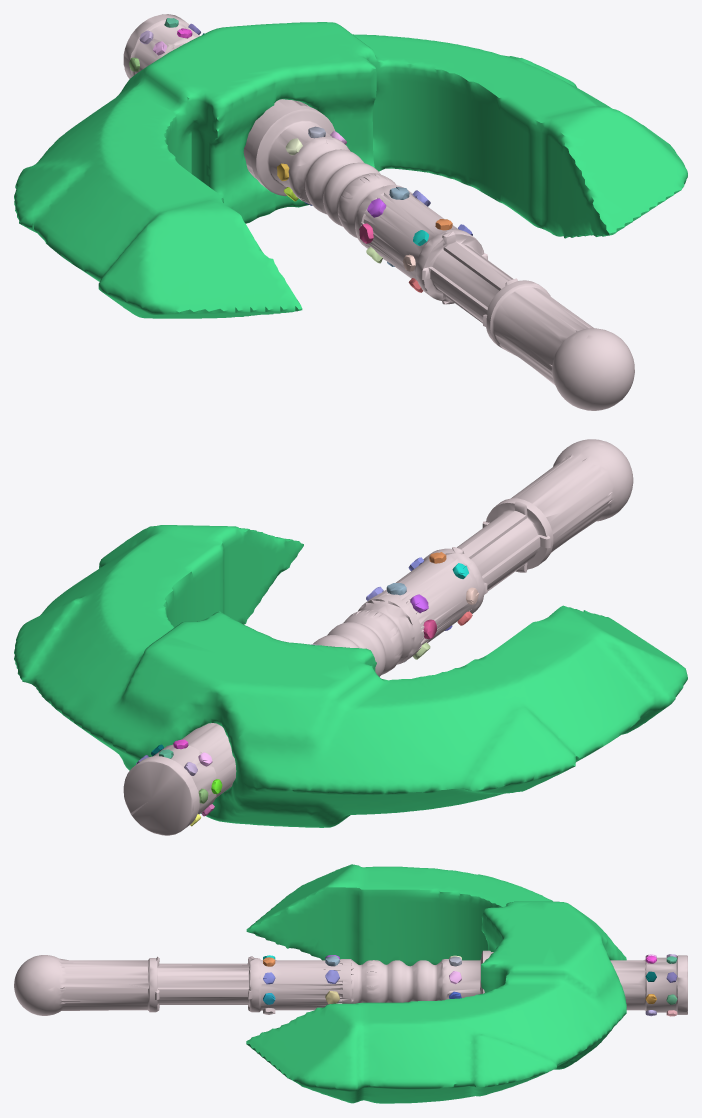
3 views of the same model, one above another, from view 1: azimuth 30°, elevation 25°; view 2: azimuth 150°, elevation 25°; view 3: azimuth 270°, elevation 25° (orthographic). The views are drawn at different scales.
Parts seen in each view (by area): view 1: cube_NewUVs_cube_NewUVs_0, split_parent_6; view 2: cube_NewUVs_cube_NewUVs_0, split_parent_6; view 3: cube_NewUVs_cube_NewUVs_0, split_parent_6.
Boxes of the visible parts, x1,y1,x2,y2 form: cube_NewUVs_cube_NewUVs_0: (14, 22, 687, 318); split_parent_6: (123, 14, 634, 410); cube_NewUVs_cube_NewUVs_0: (14, 525, 687, 827); split_parent_6: (123, 439, 633, 835); cube_NewUVs_cube_NewUVs_0: (246, 864, 626, 1103); split_parent_6: (14, 950, 687, 1015).
Bounding box in the file's own units: 0.7228 × 0.1678 × 1.
